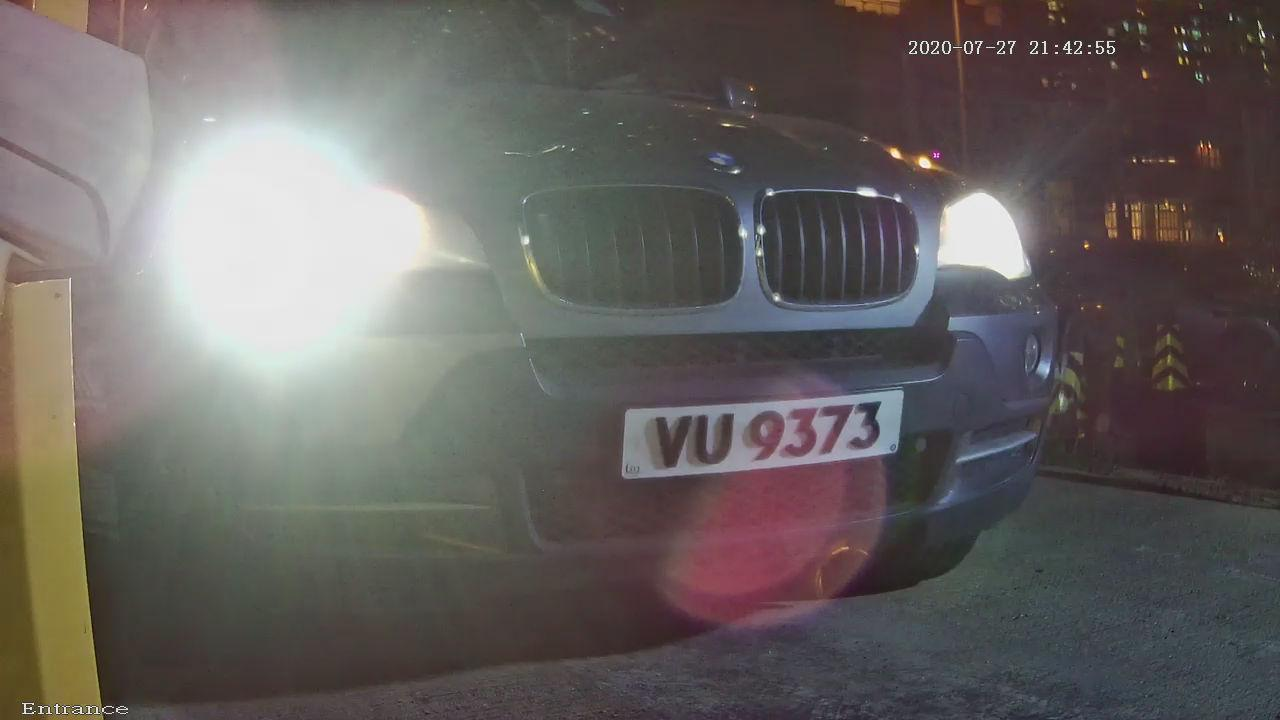privatecar: (74, 31, 1150, 636)
